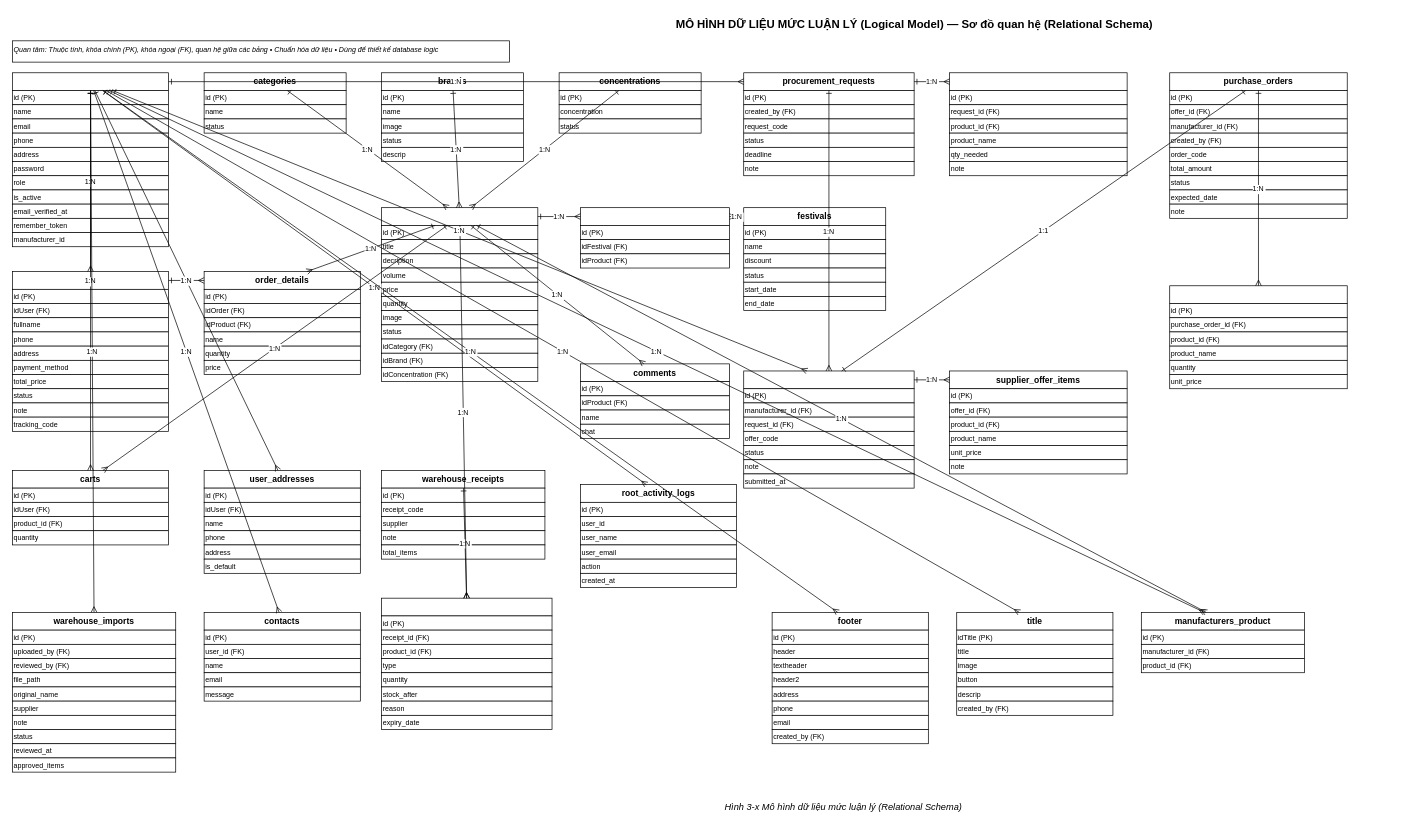
Image size: 1424x830. Some labels were removed from this diagram. Here are the shapes that lost their labels. From the top down, the box of each, then its label:
(12, 72, 169, 91): users
(949, 72, 1127, 91): procurement_request_items
(381, 207, 538, 225): products
(580, 207, 730, 225): festival_product
(12, 271, 169, 289): orders
(1169, 285, 1347, 304): purchase_order_items
(743, 370, 914, 389): supplier_offers
(381, 597, 552, 616): warehouse_stock_logs
